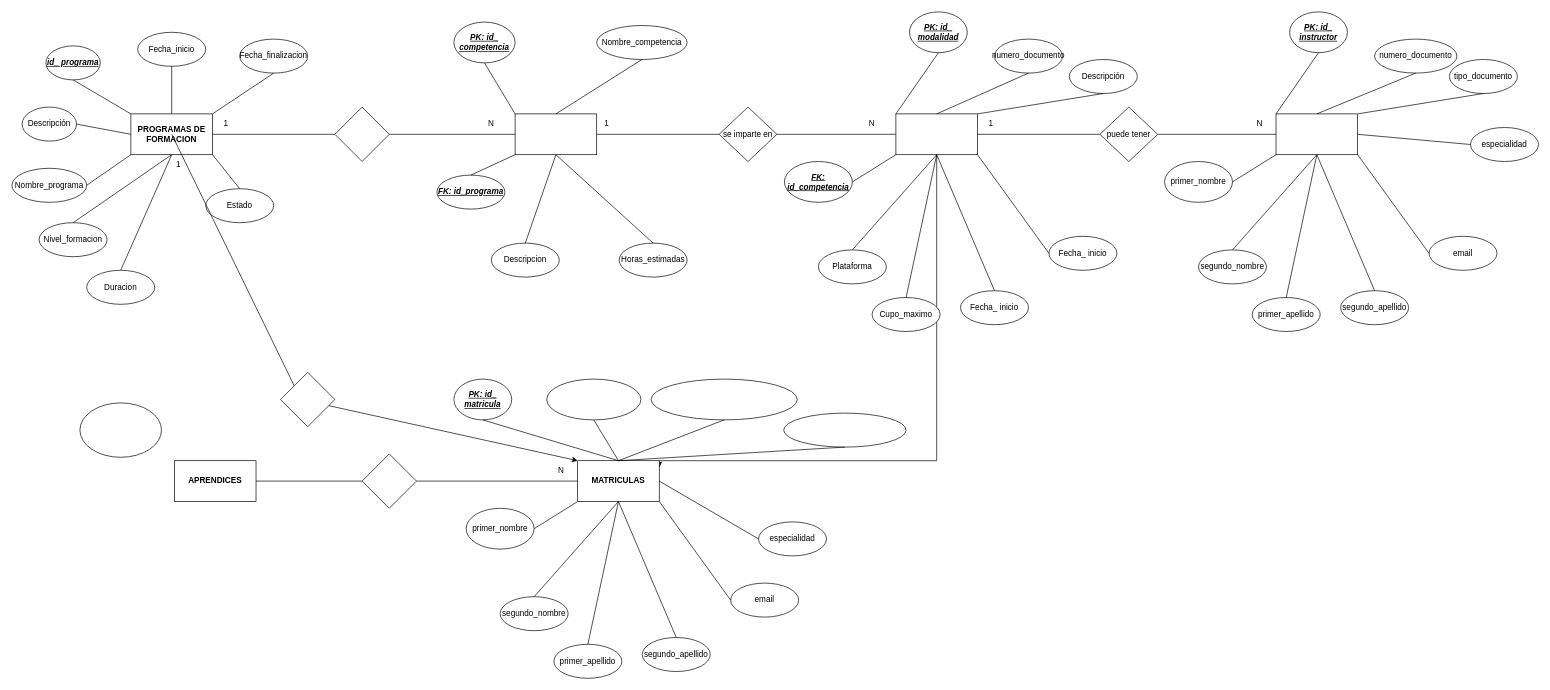
The diagram is 1550 pixels wide and 690 high, and some of its shapes have lost their labels. Here are the shapes that lost their labels. From the top down, the centre of each, then its label:
At [361,134]: "tiene".
At [555,134]: "COMPETENCIAS".
At [936,134]: "MODALIDADES".
At [1316,134]: "INSTRUCTORES".
At [307,399]: "ofrece".
At [593,399]: "FK: Aprendices_id_aprendiz".
At [723,399]: "FK: Programas_formacion_id_programa".
At [844,429]: "FK: Modalidades_id:modalidad".
At [389,480]: "se matricula en".
